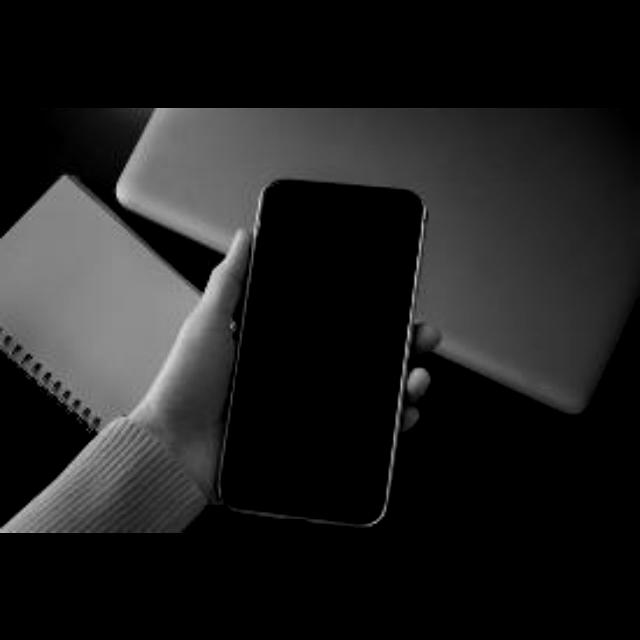fake: (194, 168, 445, 533)
